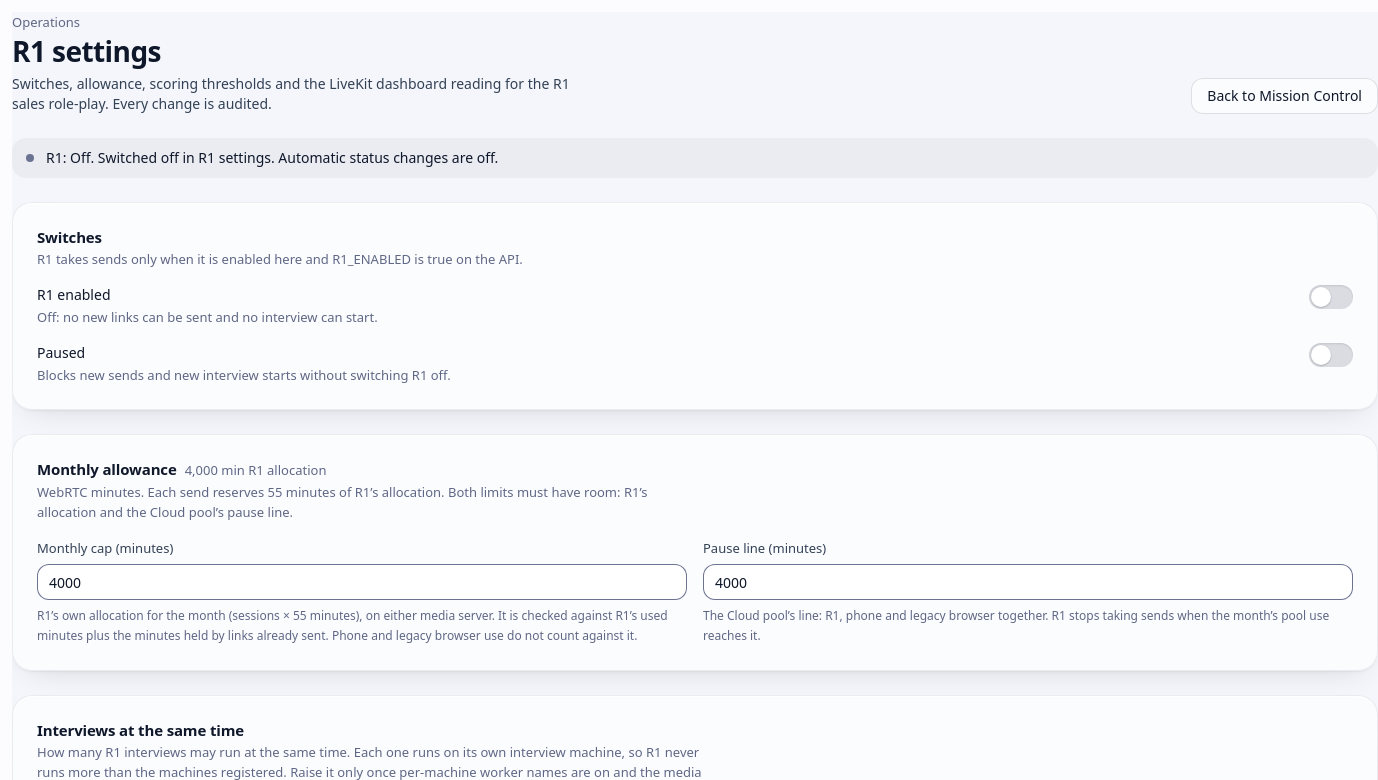
Test case: what the form shows › the monthly cap is R1’s allocation (0119), not a combined ceiling (P2) › tracks the cap being typed, and drops the summary when it is not a number
Expected: the text "4,000 min R1 allocation" is shown, [185, 460, 326, 480]
Clear the field labelled "Monthly cap (minutes)" at (362,582), box [37, 564, 687, 600]
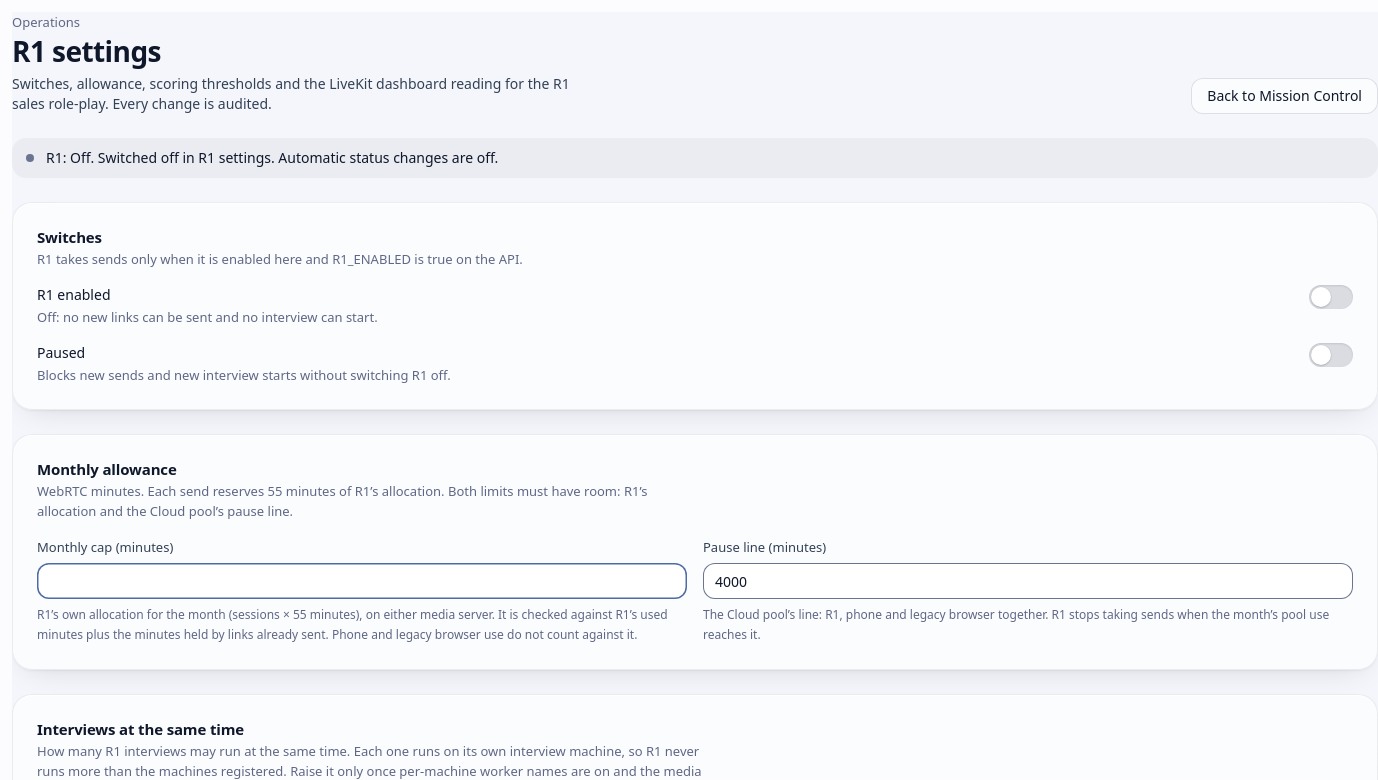
Type "1100" into the field labelled "Monthly cap (minutes)".
click(362, 581); type("1100")  # box [37, 563, 687, 599]
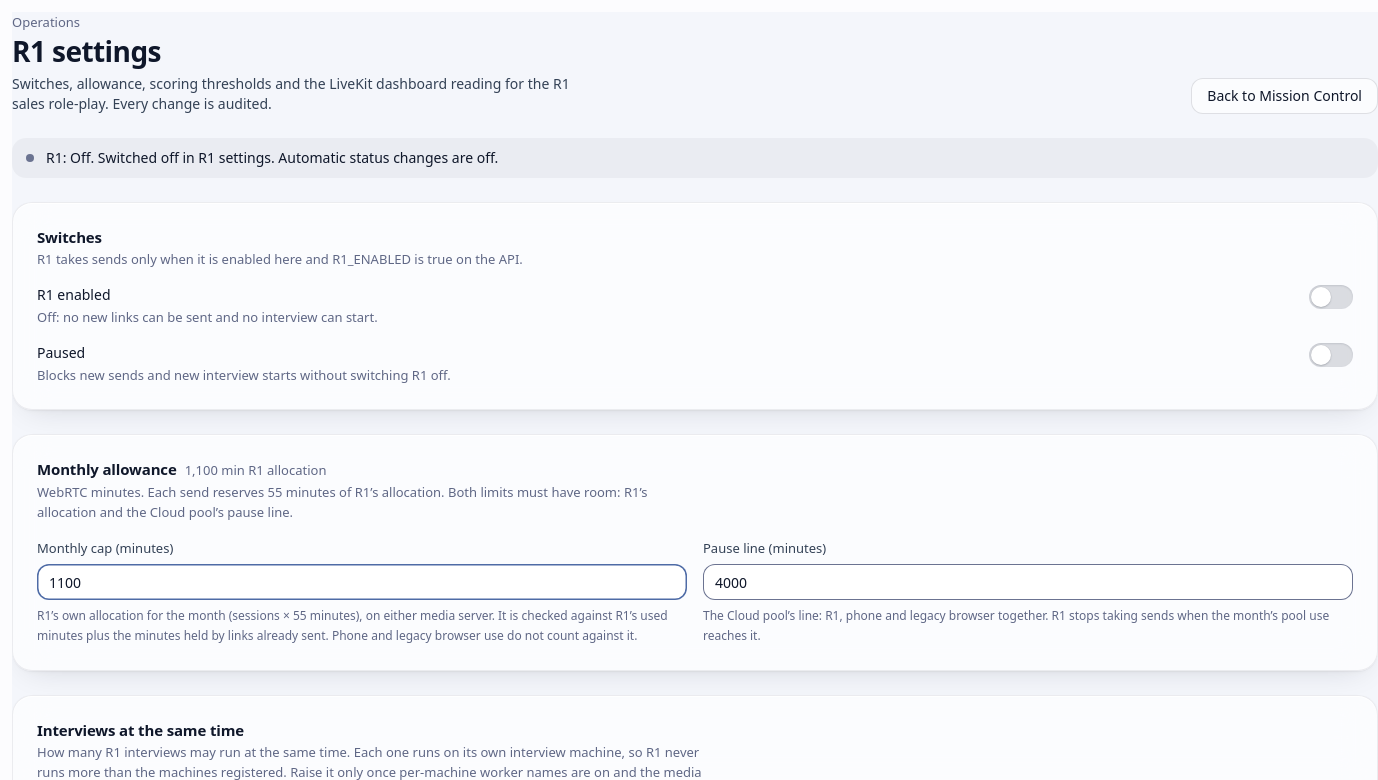
Now the text "1,100 min R1 allocation" is shown, box [185, 460, 326, 480]
Clear the field labelled "Monthly cap (minutes)" at (362,582), box [37, 564, 687, 600]
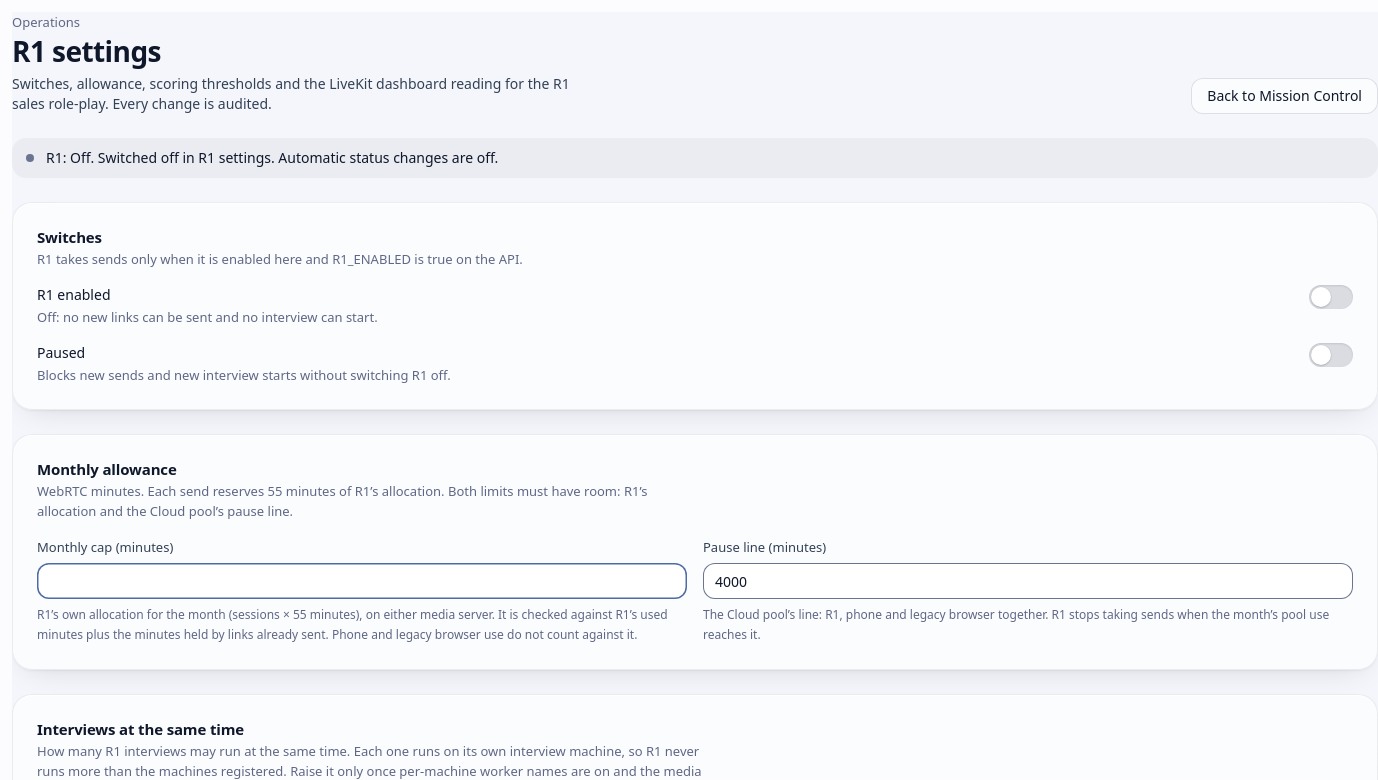
Now the text "min R1 allocation" is gone
